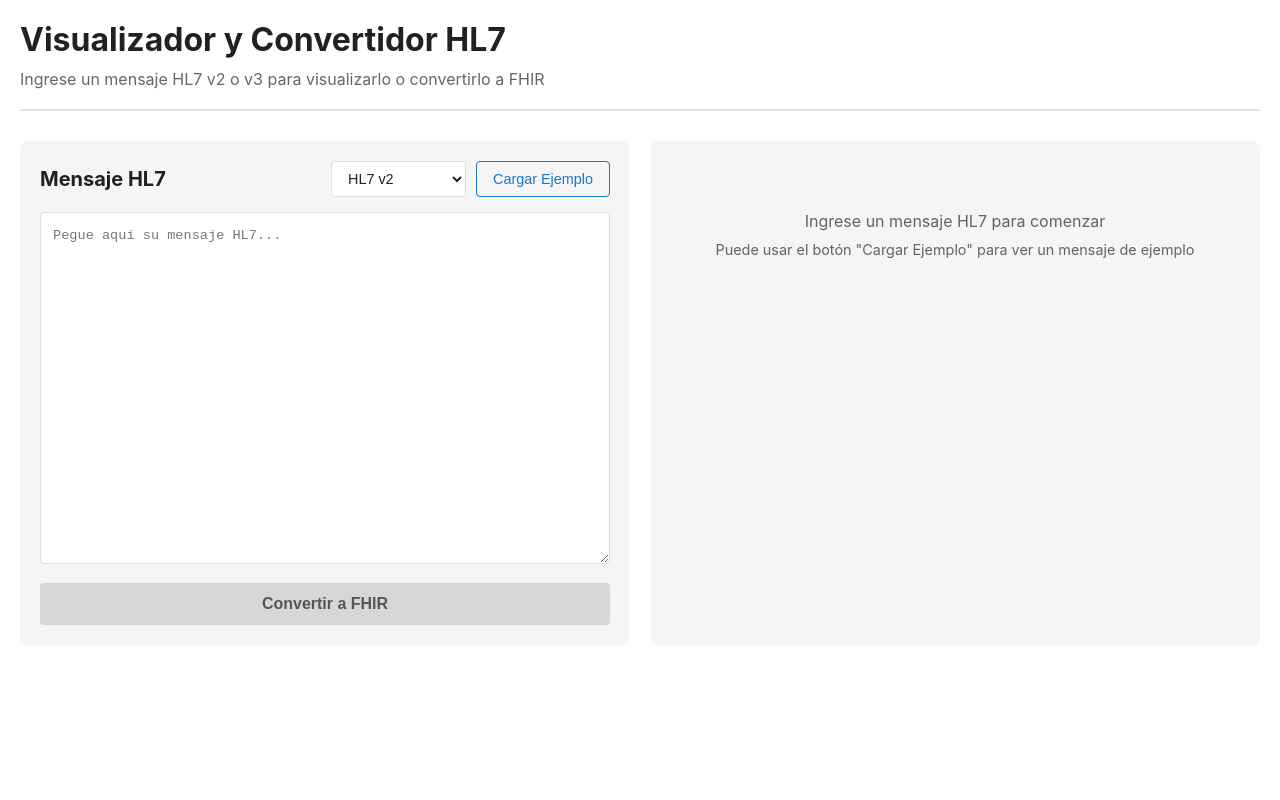
Test: Hl7Page › shows error when response has success=false
This screenshot has width=1280, height=800.
Type "MSH|DATA" into the text box with placeholder "Pegue aquí su mensaje HL7..." at (325,388), box [40,212,610,564]
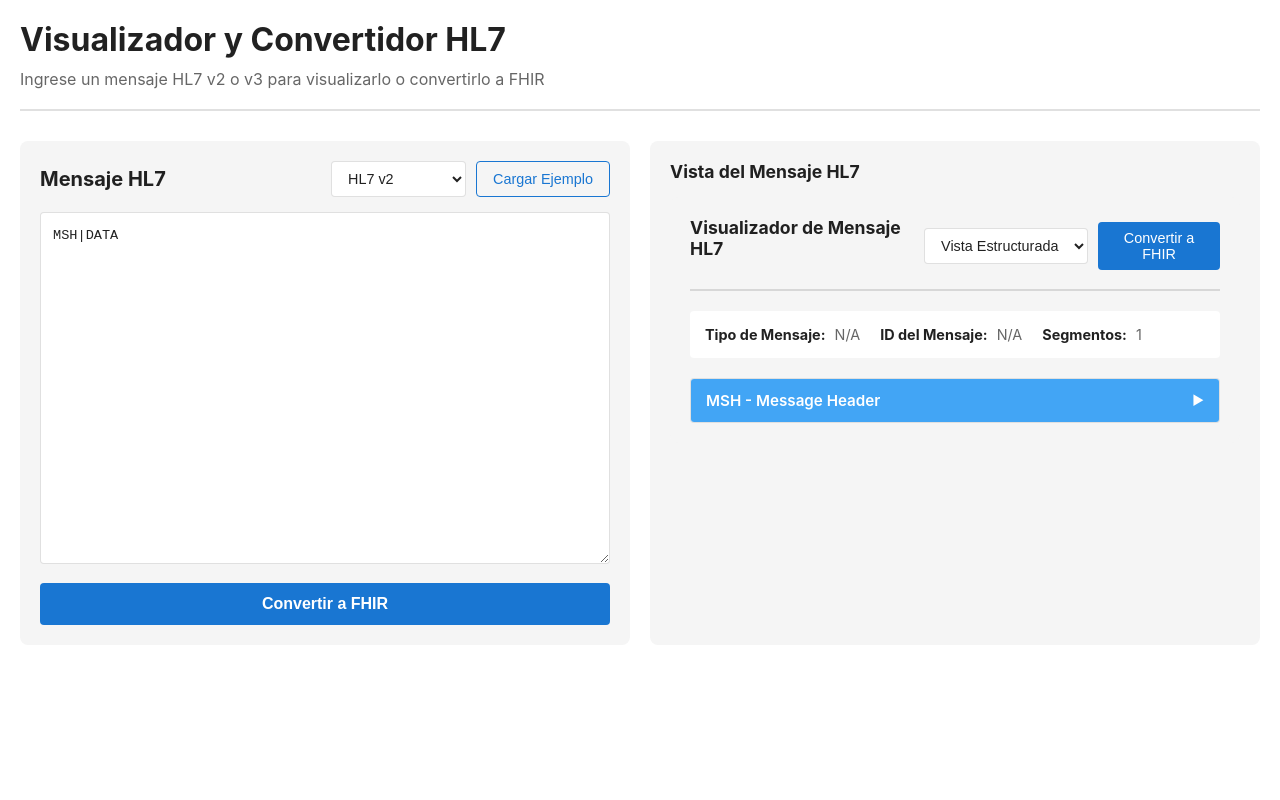
Click the button with class "hl7-convert-button" at (325,604), box [40,583,610,625]
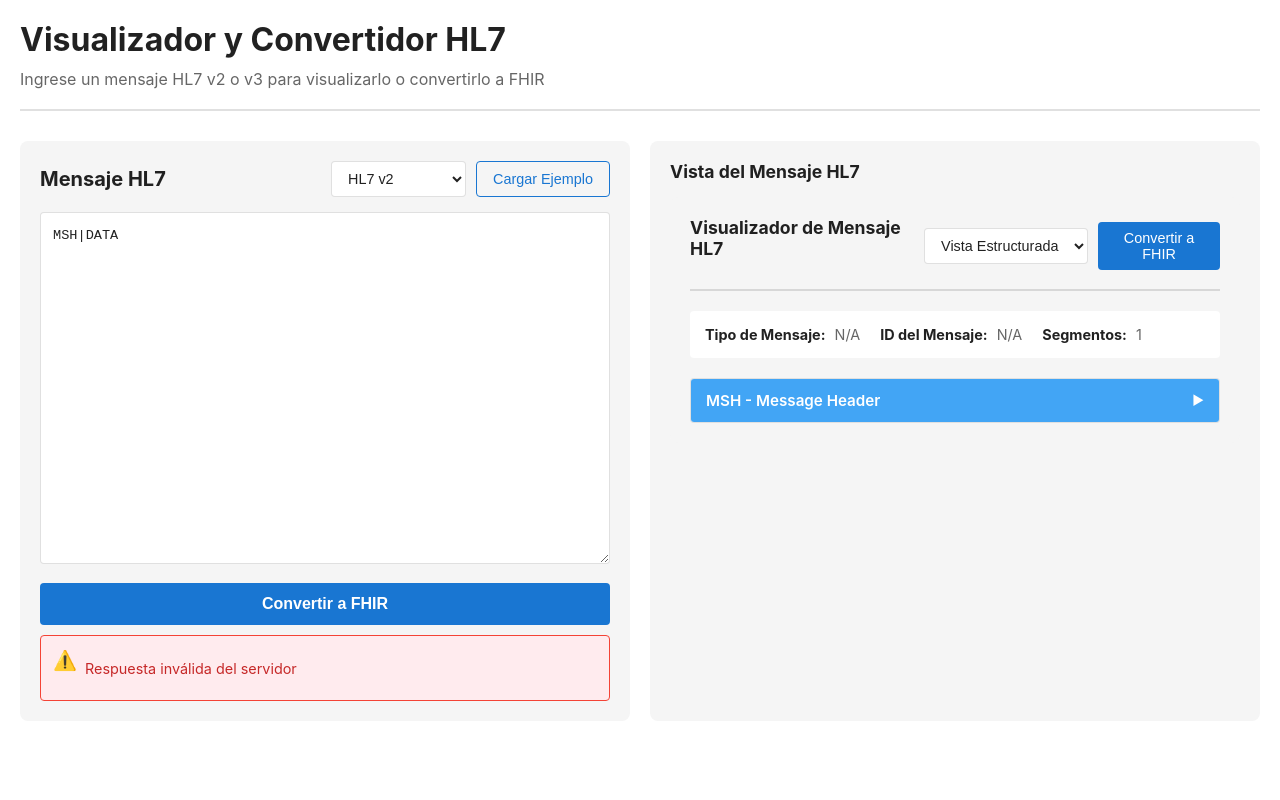
Now the text "⚠️ Respuesta inválida del servidor" is shown, box [40,635,610,701]
